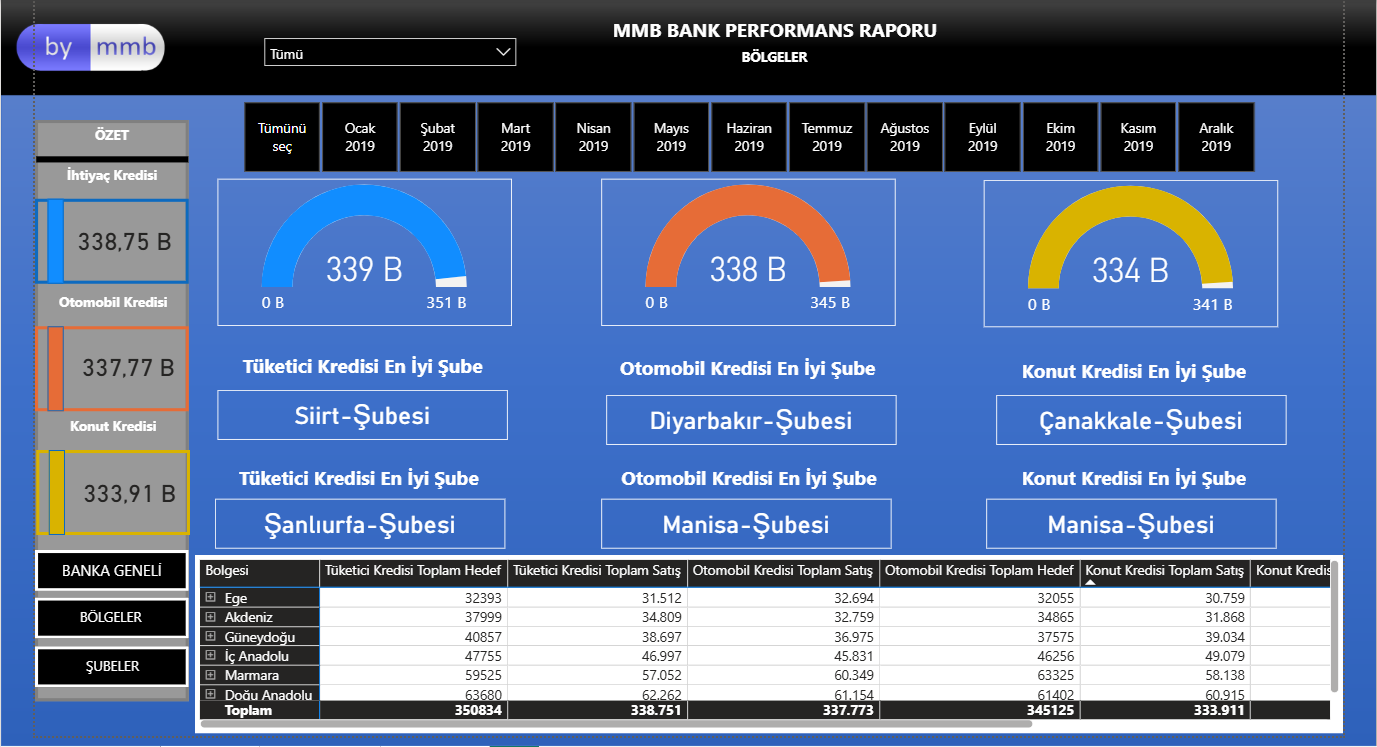

The dashboard page shown, as its layout file describes it:
{"tool":"powerbi","page":{"name":"BÖLGELER","canvas":[1280,720],"ordinal":1},"visuals":[{"type":"textbox","box":[520.9,11,406,46.5],"z":0},{"type":"textbox","box":[604.1,41.6,238.5,30.6],"z":1000},{"type":"shape","box":[0,117.4,150.4,568.6],"z":2000},{"type":"shape","box":[1.2,137,149.2,37.9],"z":3000},{"type":"textbox","box":[0,117.4,150.4,37.9],"z":4000},{"type":"shape","box":[0,194.4,150.4,83.2],"z":5000},{"type":"textbox","box":[0,156.5,150.4,37.9],"z":6000},{"type":"shape","box":[12.2,194.4,15.9,83.2],"z":7000},{"type":"shape","box":[0.2,318.9,150.4,83.2],"z":8000},{"type":"textbox","box":[1.2,281.3,150.4,37.9],"z":9000},{"type":"shape","box":[12.4,318.9,15.9,83.2],"z":10000},{"type":"shape","box":[1.2,440.2,150.4,83.2],"z":11000},{"type":"textbox","box":[1.2,402.3,150.4,37.9],"z":12000},{"type":"shape","box":[13.5,440.2,15.9,83.2],"z":13000},{"type":"shape","box":[0,538,150.4,40.4],"z":14000},{"type":"textbox","box":[15.9,542.9,118.6,35.5],"z":15000},{"type":"shape","box":[0.2,584.2,150.4,40.4],"z":16000},{"type":"textbox","box":[31.8,589.4,84.4,35.5],"z":17000},{"type":"shape","box":[0.2,632.2,150.4,40.4],"z":18000},{"type":"textbox","box":[35.5,637.1,80.7,35.5],"z":19000},{"type":"slicer","fields":{"Values":["KREDILER.Ay"]},"box":[178.5,92.9,1038.2,81.9],"z":20000},{"type":"card","fields":{"Values":["OLCULER.Tüketici Kredisi Toplam Satış"]},"box":[24.5,194.4,127.2,81.9],"z":21000},{"type":"card","fields":{"Values":["OLCULER.Otomobil Kredisi Toplam Satış"]},"box":[28.1,317.9,127.2,81.9],"z":22000},{"type":"card","fields":{"Values":["OLCULER.Konut Kredisi Toplam Satış"]},"box":[29.3,441.4,127.2,81.9],"z":23000},{"type":"slicer","fields":{"Values":["sube_listesi.Bolgesi"]},"box":[214,26.9,266.6,45.2],"z":24000},{"type":"gauge","fields":{"Y":["OLCULER.Tüketici Kredisi Toplam Satış"],"MaxValue":["OLCULER.Tüketici Kredisi Toplam Hedef"]},"box":[178.3,174.6,287.8,143.9],"z":25000},{"type":"gauge","fields":{"Y":["OLCULER.Otomobil Kredisi Toplam Satış"],"MaxValue":["OLCULER.Otomobil Kredisi Toplam Hedef"]},"box":[553.4,174.6,287.8,143.9],"z":26000},{"type":"gauge","fields":{"Y":["OLCULER.Konut Kredisi Toplam Satış"],"MaxValue":["OLCULER.Konut Kredisi Toplam Hedef"]},"box":[928.5,175.9,287.8,143.9],"z":27000},{"type":"textbox","box":[185.7,339.4,269.3,41.8],"z":28000},{"type":"card","fields":{"Values":["Min(sube_listesi.Sube Adı)"]},"box":[178.3,381.2,284.1,49.2],"z":29000},{"type":"textbox","box":[182,450.1,269.3,41.8],"z":30000},{"type":"card","fields":{"Values":["Min(sube_listesi.Sube Adı)"]},"box":[175.9,488.2,284.1,49.2],"z":31000},{"type":"textbox","box":[562.7,342.5,269.3,41.8],"z":32000},{"type":"card","fields":{"Values":["Min(sube_listesi.Sube Adı)"]},"box":[558.3,386.2,284.1,49.2],"z":33000},{"type":"textbox","box":[563.3,450.1,269.3,41.8],"z":34000},{"type":"card","fields":{"Values":["Min(sube_listesi.Sube Adı)"]},"box":[553.4,488.2,284.1,49.2],"z":35000},{"type":"textbox","box":[940.5,344.5,269.3,41.8],"z":36000},{"type":"card","fields":{"Values":["Min(sube_listesi.Sube Adı)"]},"box":[940.8,386.2,284.1,49.2],"z":37000},{"type":"textbox","box":[940.8,450.1,269.3,41.8],"z":38000},{"type":"card","fields":{"Values":["Min(sube_listesi.Sube Adı)"]},"box":[931,488.2,284.1,49.2],"z":39000},{"type":"pivotTable","fields":{"Rows":["sube_listesi.Bolgesi","sube_listesi.Sube Adı"],"Values":["OLCULER.Tüketici Kredisi Toplam Hedef","OLCULER.Tüketici Kredisi Toplam Satış","OLCULER.Otomobil Kredisi Toplam Satış","OLCULER.Otomobil Kredisi Toplam Hedef","OLCULER.Konut Kredisi Toplam Satış","OLCULER.Konut Kredisi Toplam Hedef","OLCULER.Toplam Kredi Satışı","OLCULER.Toplam Kredi Hedefi"]},"box":[156.2,542.4,1124.1,174.6],"z":40000}]}

Visuals, with their boxes on the page's 1280x720 design canvas (x1, y1, x2, y2). These are canvas units, not pixel positions in the 1377x747 screenshot, which may show the page scaled, cropped or inside an application window:
textbox: pyautogui.locateOnScreen(521, 11, 927, 58)
textbox: pyautogui.locateOnScreen(604, 42, 843, 72)
shape: pyautogui.locateOnScreen(0, 117, 150, 686)
shape: pyautogui.locateOnScreen(1, 137, 150, 175)
textbox: pyautogui.locateOnScreen(0, 117, 150, 155)
shape: pyautogui.locateOnScreen(0, 194, 150, 278)
textbox: pyautogui.locateOnScreen(0, 156, 150, 194)
shape: pyautogui.locateOnScreen(12, 194, 28, 278)
shape: pyautogui.locateOnScreen(0, 319, 151, 402)
textbox: pyautogui.locateOnScreen(1, 281, 152, 319)
shape: pyautogui.locateOnScreen(12, 319, 28, 402)
shape: pyautogui.locateOnScreen(1, 440, 152, 523)
textbox: pyautogui.locateOnScreen(1, 402, 152, 440)
shape: pyautogui.locateOnScreen(14, 440, 29, 523)
shape: pyautogui.locateOnScreen(0, 538, 150, 578)
textbox: pyautogui.locateOnScreen(16, 543, 134, 578)
shape: pyautogui.locateOnScreen(0, 584, 151, 625)
textbox: pyautogui.locateOnScreen(32, 589, 116, 625)
shape: pyautogui.locateOnScreen(0, 632, 151, 673)
textbox: pyautogui.locateOnScreen(36, 637, 116, 673)
slicer - KREDILER.Ay: pyautogui.locateOnScreen(178, 93, 1217, 175)
card - OLCULER.Tüketici Kredisi Toplam Satış: pyautogui.locateOnScreen(24, 194, 152, 276)
card - OLCULER.Otomobil Kredisi Toplam Satış: pyautogui.locateOnScreen(28, 318, 155, 400)
card - OLCULER.Konut Kredisi Toplam Satış: pyautogui.locateOnScreen(29, 441, 156, 523)
slicer - sube_listesi.Bolgesi: pyautogui.locateOnScreen(214, 27, 481, 72)
gauge - OLCULER.Tüketici Kredisi Toplam Satış x OLCULER.Tüketici Kredisi Toplam Hedef: pyautogui.locateOnScreen(178, 175, 466, 318)
gauge - OLCULER.Otomobil Kredisi Toplam Satış x OLCULER.Otomobil Kredisi Toplam Hedef: pyautogui.locateOnScreen(553, 175, 841, 318)
gauge - OLCULER.Konut Kredisi Toplam Satış x OLCULER.Konut Kredisi Toplam Hedef: pyautogui.locateOnScreen(928, 176, 1216, 320)
textbox: pyautogui.locateOnScreen(186, 339, 455, 381)
card - Min(sube_listesi.Sube Adı): pyautogui.locateOnScreen(178, 381, 462, 430)
textbox: pyautogui.locateOnScreen(182, 450, 451, 492)
card - Min(sube_listesi.Sube Adı): pyautogui.locateOnScreen(176, 488, 460, 537)
textbox: pyautogui.locateOnScreen(563, 342, 832, 384)
card - Min(sube_listesi.Sube Adı): pyautogui.locateOnScreen(558, 386, 842, 435)
textbox: pyautogui.locateOnScreen(563, 450, 833, 492)
card - Min(sube_listesi.Sube Adı): pyautogui.locateOnScreen(553, 488, 838, 537)
textbox: pyautogui.locateOnScreen(940, 344, 1210, 386)
card - Min(sube_listesi.Sube Adı): pyautogui.locateOnScreen(941, 386, 1225, 435)
textbox: pyautogui.locateOnScreen(941, 450, 1210, 492)
card - Min(sube_listesi.Sube Adı): pyautogui.locateOnScreen(931, 488, 1215, 537)
pivotTable - sube_listesi.Bolgesi x sube_listesi.Sube Adı: pyautogui.locateOnScreen(156, 542, 1280, 717)
